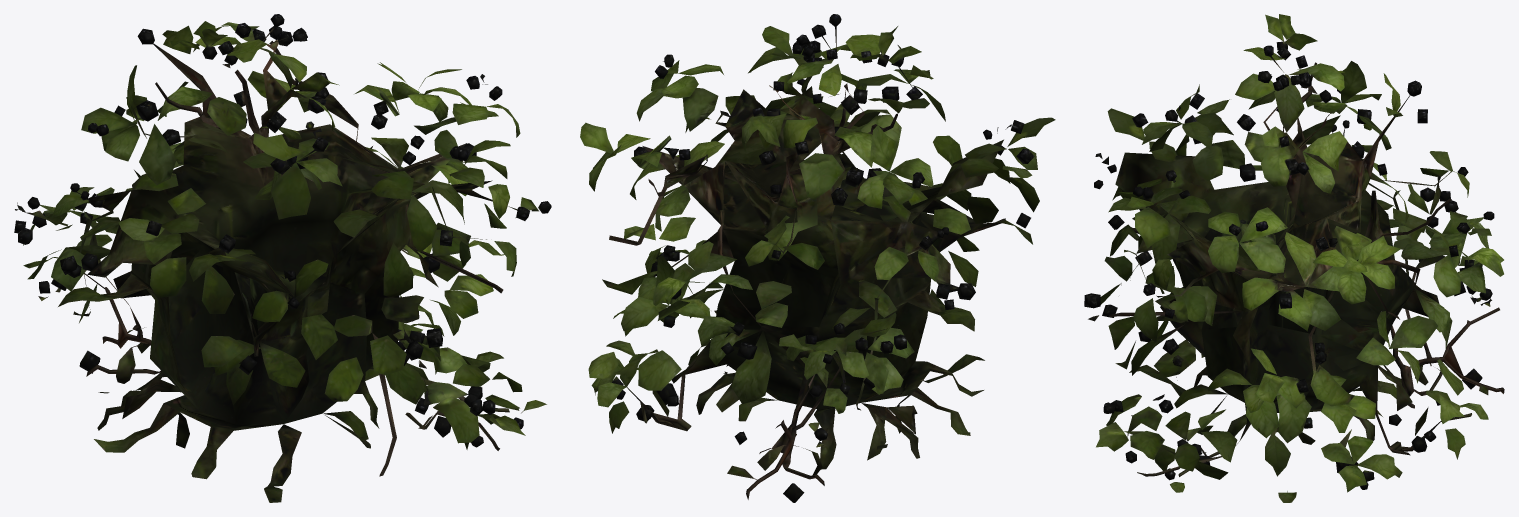
Rendered from bramble.glb.
The picture shows the model from 3 angles, left to right: view 1: azimuth 30°, elevation 25°; view 2: azimuth 150°, elevation 25°; view 3: azimuth 270°, elevation 25°; orthographic projection. The views are drawn at different scales.
Visible parts, largest first — view 1: tripo_node_43f50da5-2310-4b0b-ac28-fddd41aa124a; view 2: tripo_node_43f50da5-2310-4b0b-ac28-fddd41aa124a; view 3: tripo_node_43f50da5-2310-4b0b-ac28-fddd41aa124a.
Part boxes in pixels (x1,y1,x2,y2): tripo_node_43f50da5-2310-4b0b-ac28-fddd41aa124a: [14, 14, 551, 502]; tripo_node_43f50da5-2310-4b0b-ac28-fddd41aa124a: [580, 14, 1055, 502]; tripo_node_43f50da5-2310-4b0b-ac28-fddd41aa124a: [1084, 14, 1504, 502].
Size of the model in its own units: 0.9995 by 0.9761 by 0.9878.
1 material, 1 textured.
